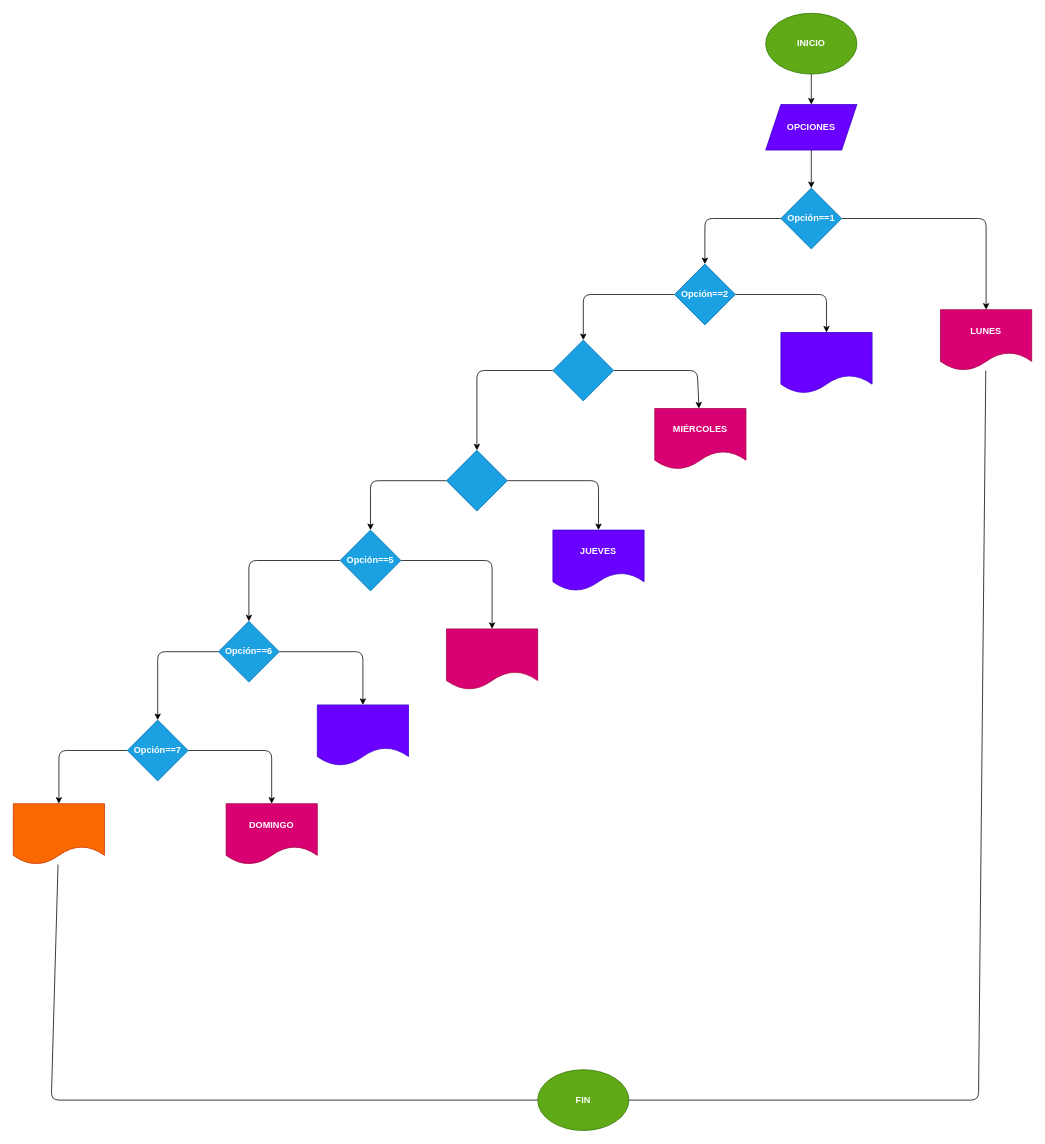
Image size: 1045x1144. Some labels were removed from this diagram. Each missing label, with the centre of its shape:
"Día no válido" belongs at point (58, 833).
"MARTES" belongs at point (826, 362).
"Opción==3" belongs at point (583, 370).
"Opción==4" belongs at point (476, 480).
"SÁBADO" belongs at point (362, 735).
"VIERNES" belongs at point (492, 659).
